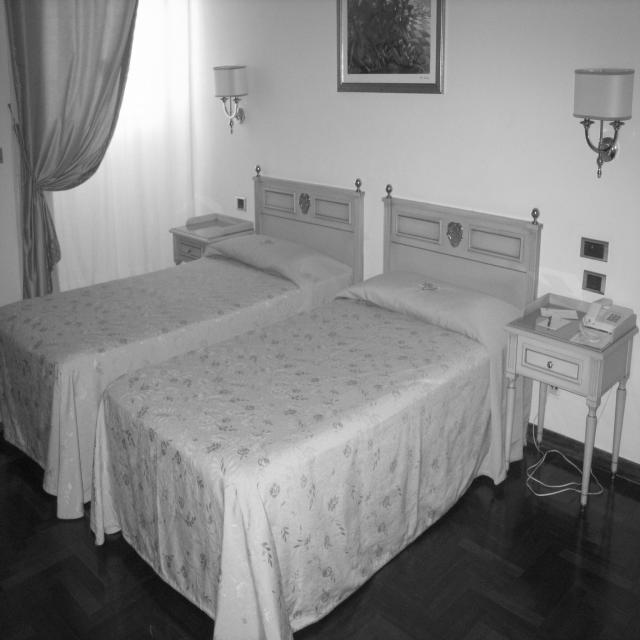bed -occluded-: (94, 196, 542, 636)
curtain crop: (7, 0, 193, 295)
notepad: (539, 314, 571, 332)
painting crop: (338, 1, 446, 95)
telephone booth: (582, 298, 633, 335)
